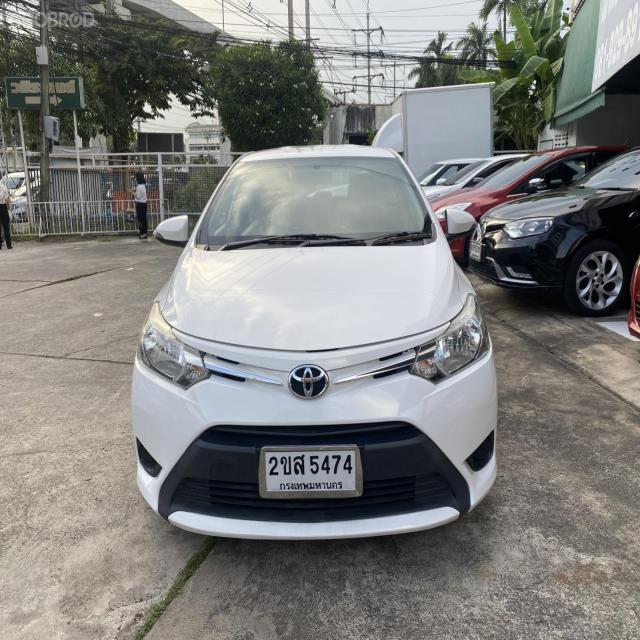license_plate: (256, 444, 363, 498)
